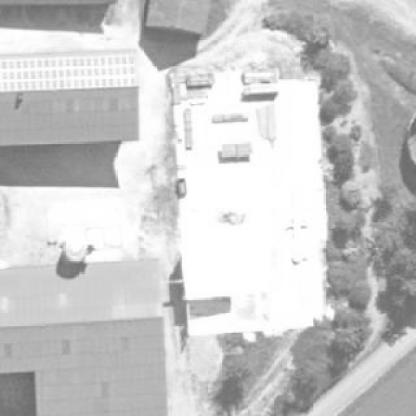solar-pv-panel: (0, 55, 137, 90)
